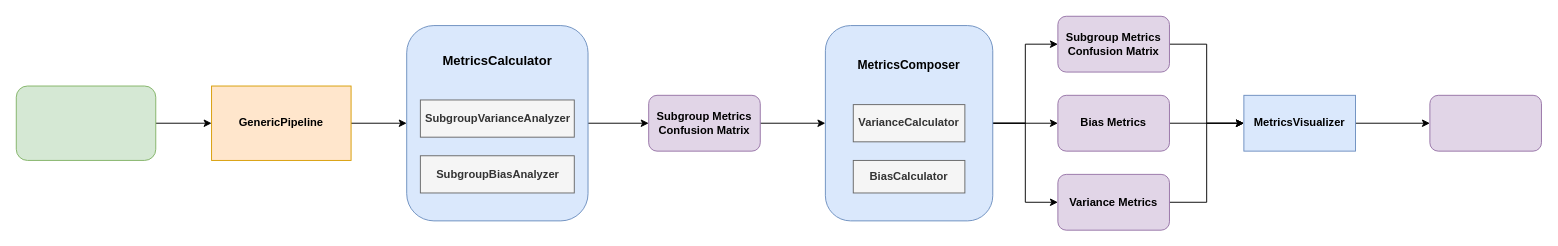
Some shapes in this 1558 by 246 pixel diagram are drawn without their labels. The shapes that lost their labels are listed below. From the top down, each one's centre as x and y in pixels, then its label:
At pixel 85 122: "Dataset class, Configs Dict with models".
At pixel 1485 122: "Final Report".
